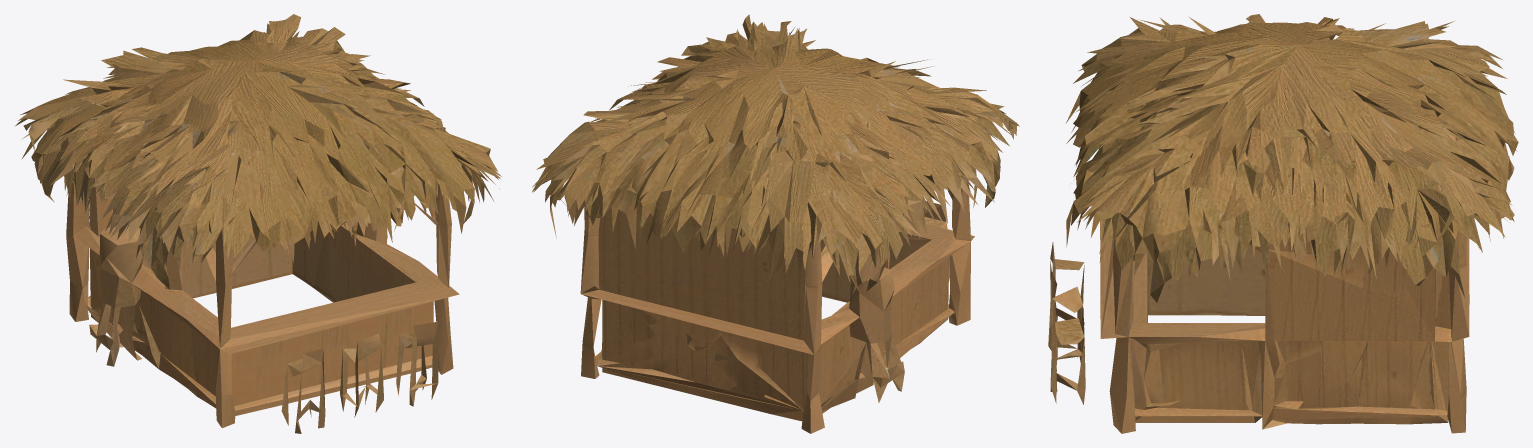
Rendered from beach_bar.glb.
3 renders of one model, left to right at view 1: azimuth 30°, elevation 25°; view 2: azimuth 150°, elevation 25°; view 3: azimuth 270°, elevation 25°, orthographic. The views are drawn at different scales.
Parts seen in each view (by area): view 1: beach_bar; view 2: beach_bar; view 3: beach_bar.
Boxes of the visible parts, x1,y1,x2,y2 form: beach_bar: [15, 14, 501, 433]; beach_bar: [532, 14, 1019, 433]; beach_bar: [1048, 14, 1518, 433].
Bounding box in the file's own units: 5 × 3.86 × 4.98.
1 material, 1 textured.
